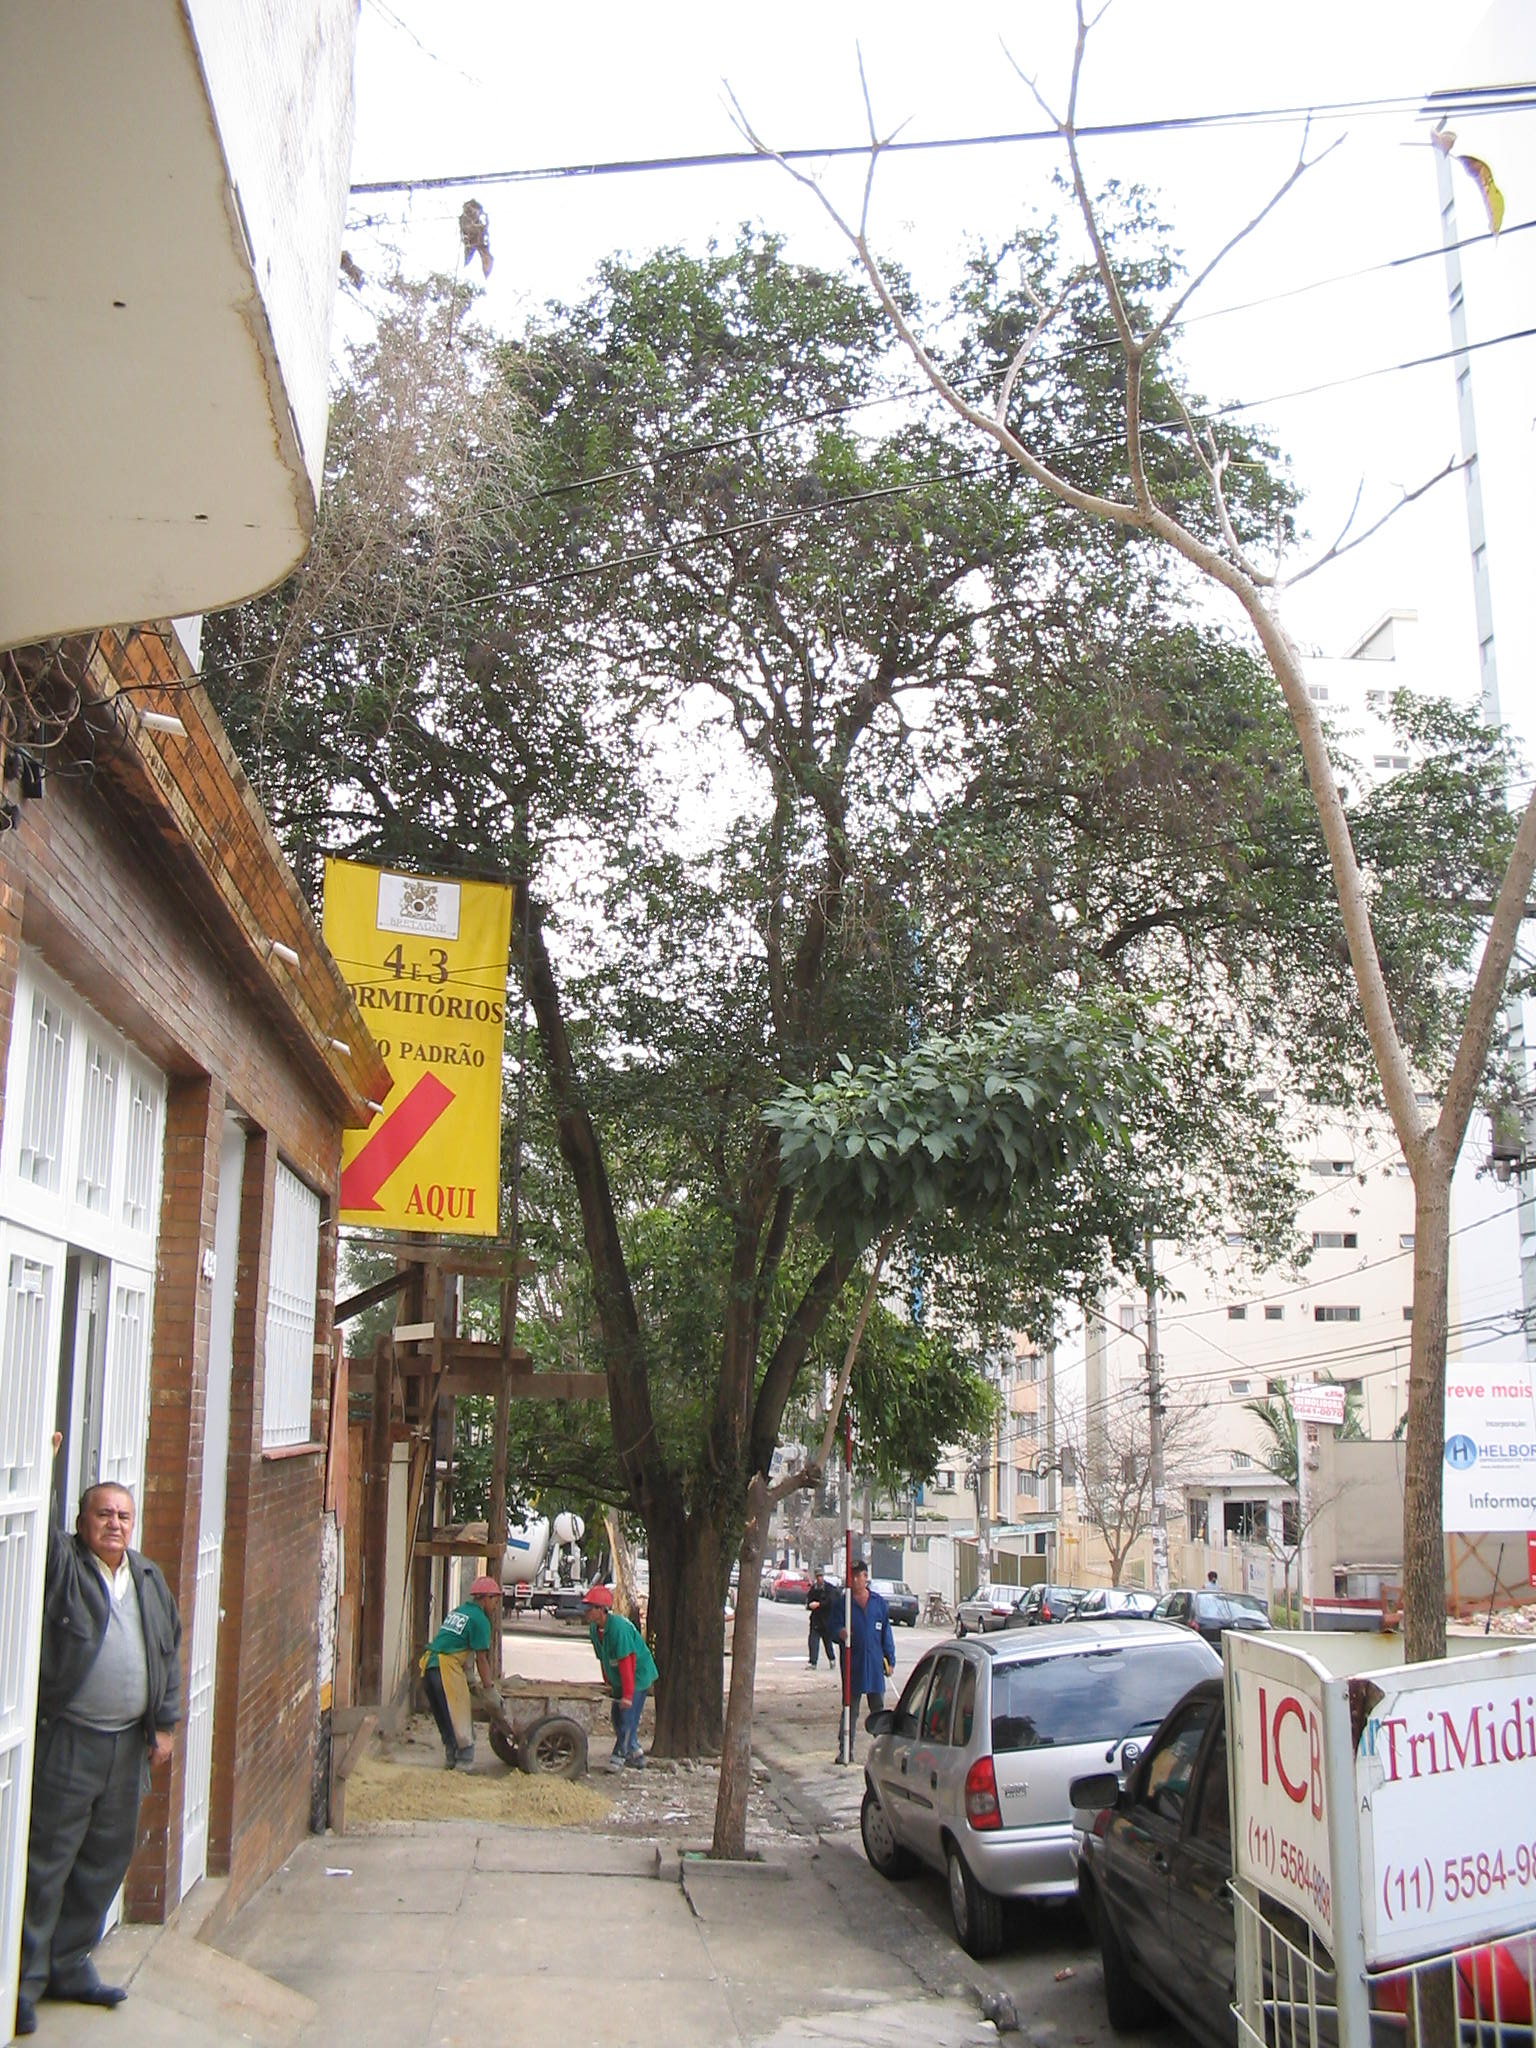stem: (624, 1516, 758, 1753)
stick: (821, 1405, 878, 1766)
tree: (253, 168, 1513, 1750)
